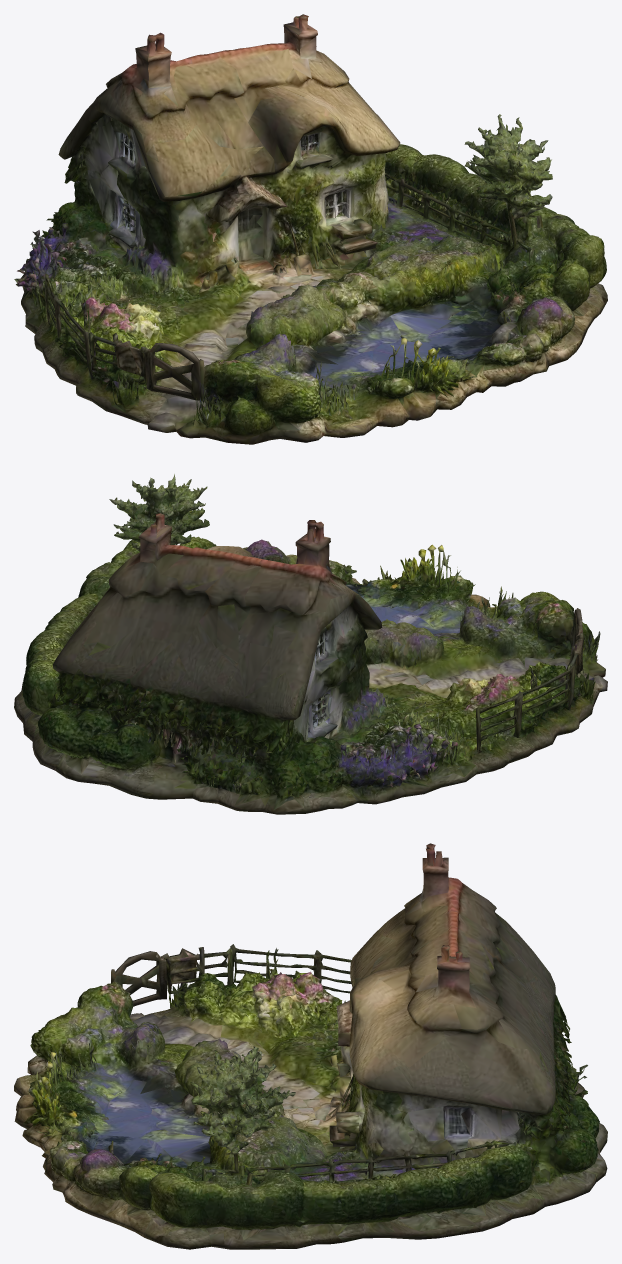
File: An_english_country_co.glb
The picture shows the model from 3 angles, top to bottom: view 1: azimuth 30°, elevation 25°; view 2: azimuth 150°, elevation 25°; view 3: azimuth 270°, elevation 25°; orthographic projection. The views are drawn at different scales.
Visible parts, largest first — view 1: An_english_country_co; view 2: An_english_country_co; view 3: An_english_country_co.
Part boxes in pixels (<box>): An_english_country_co: <box>14,14,607,444</box>; An_english_country_co: <box>14,474,607,814</box>; An_english_country_co: <box>14,843,607,1249</box>.
Bounding box in the file's own units: 1.86 × 0.8662 × 1.9.
Materials: 1 (1 with a texture image).
